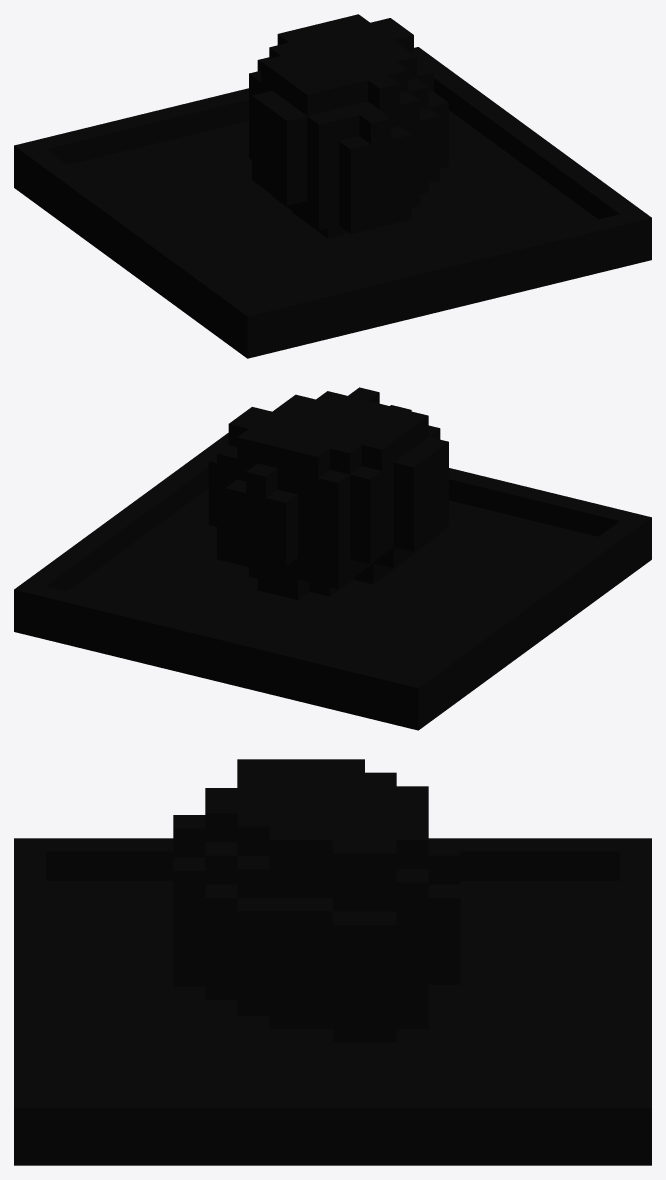
File: Potato.obj
3 views of the same model, one above another, from view 1: azimuth 30°, elevation 25°; view 2: azimuth 150°, elevation 25°; view 3: azimuth 270°, elevation 25° (orthographic). The views are drawn at different scales.
Bounding box in the file's own units: 2 × 0.9 × 2.
